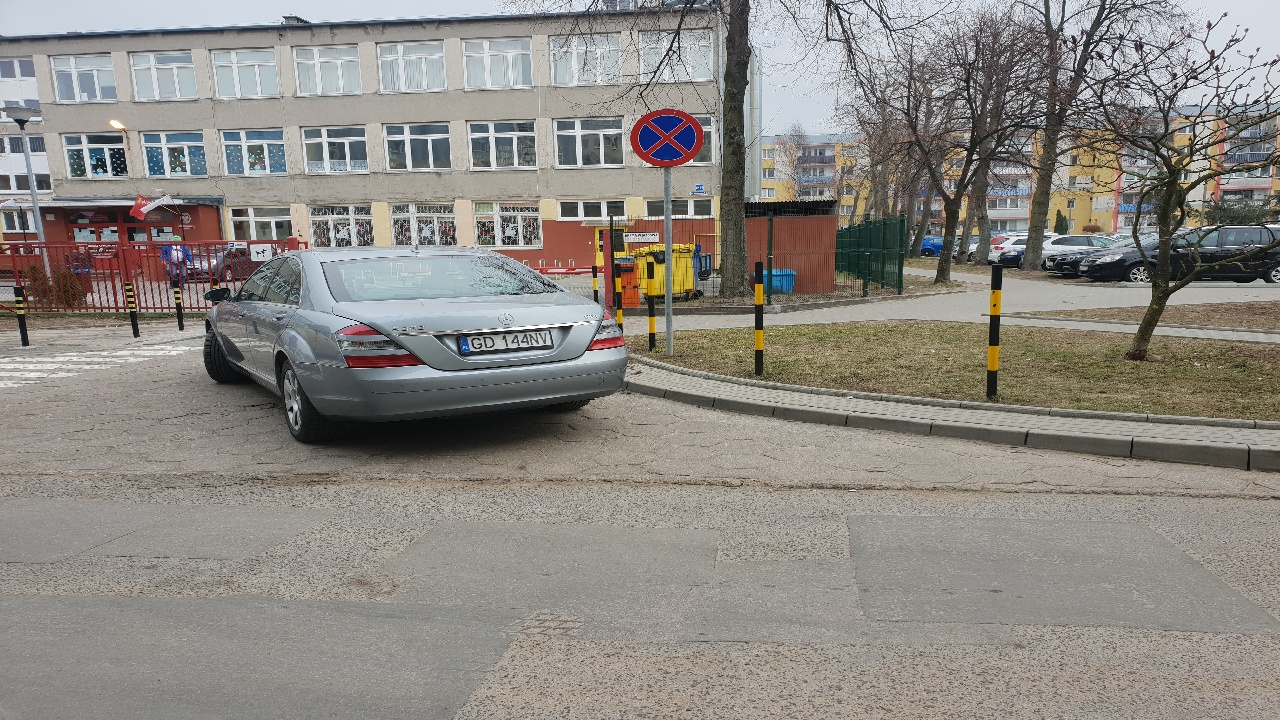B36: (631, 110, 704, 167)
